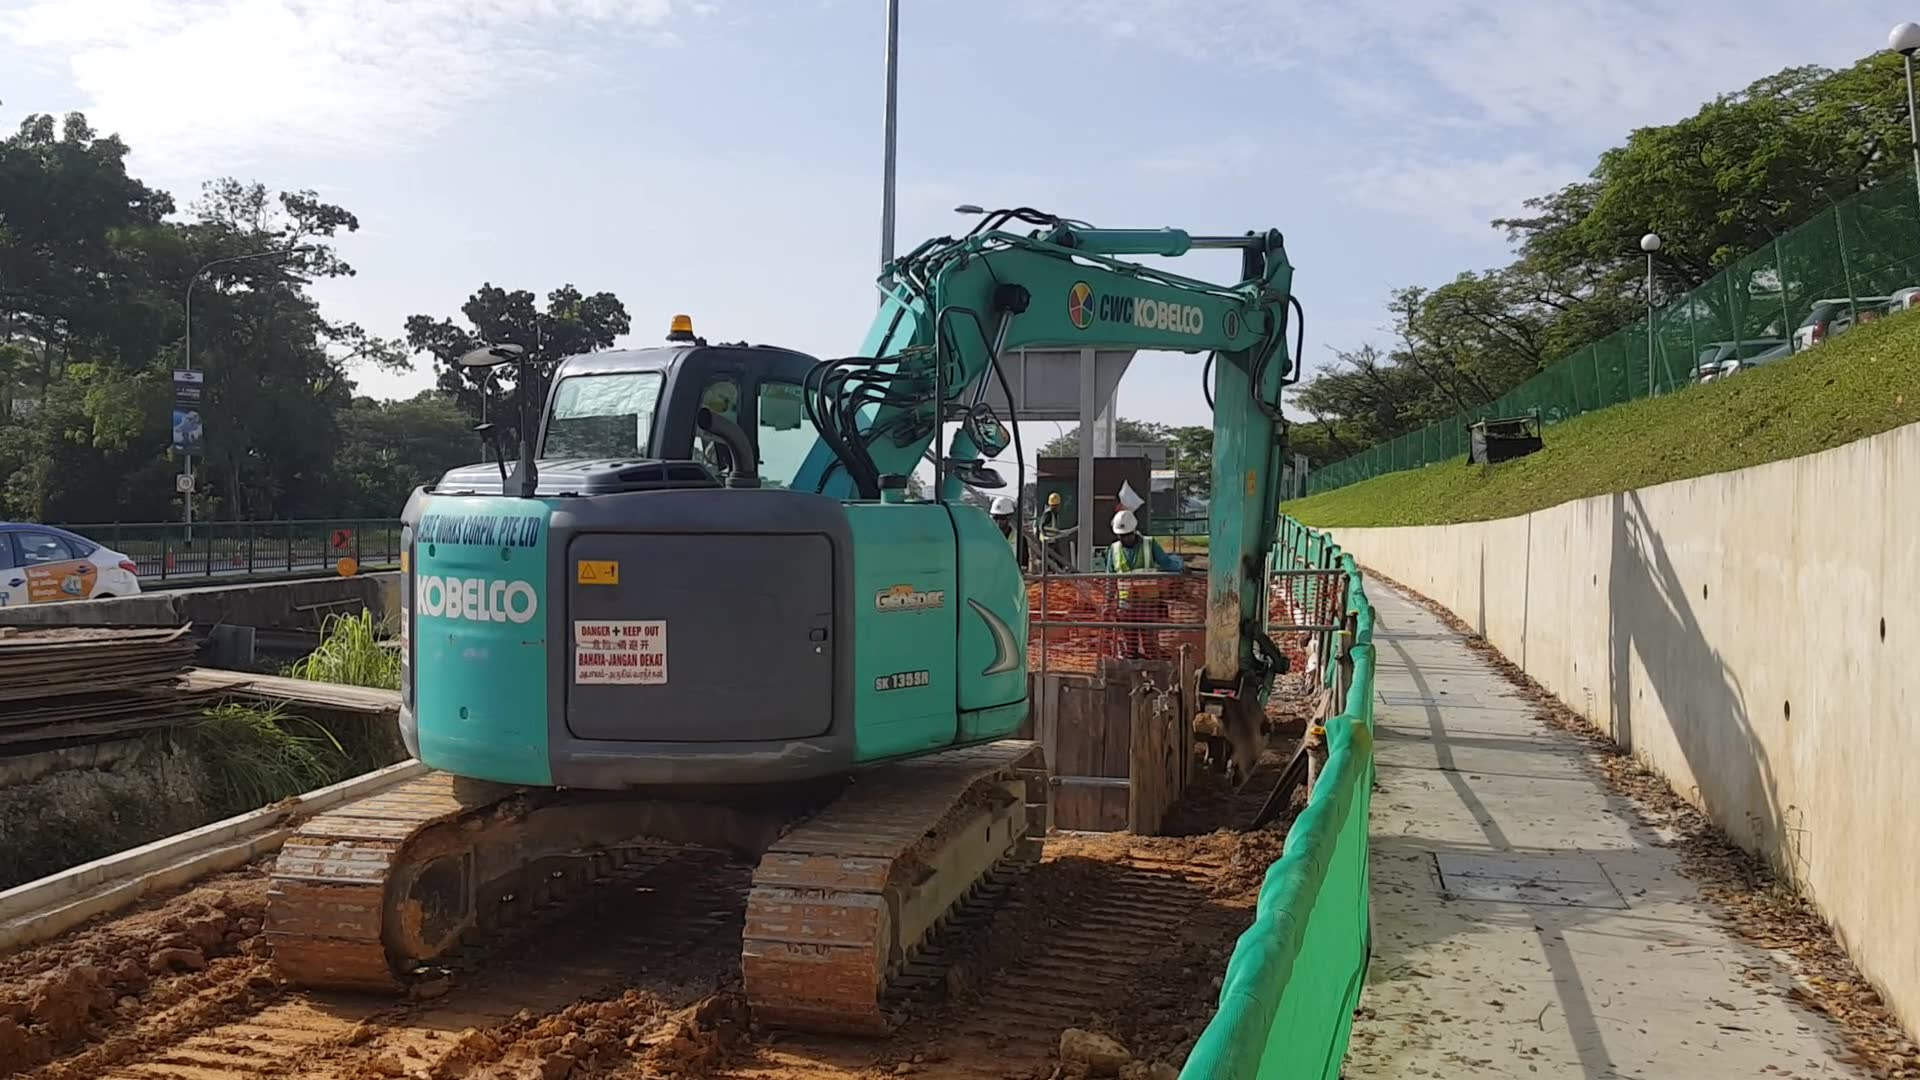cabin: (400, 313, 1058, 789)
forearm: (1205, 219, 1313, 671)
upperarm: (793, 228, 1265, 496)
wheelbase: (265, 738, 1048, 1025)
